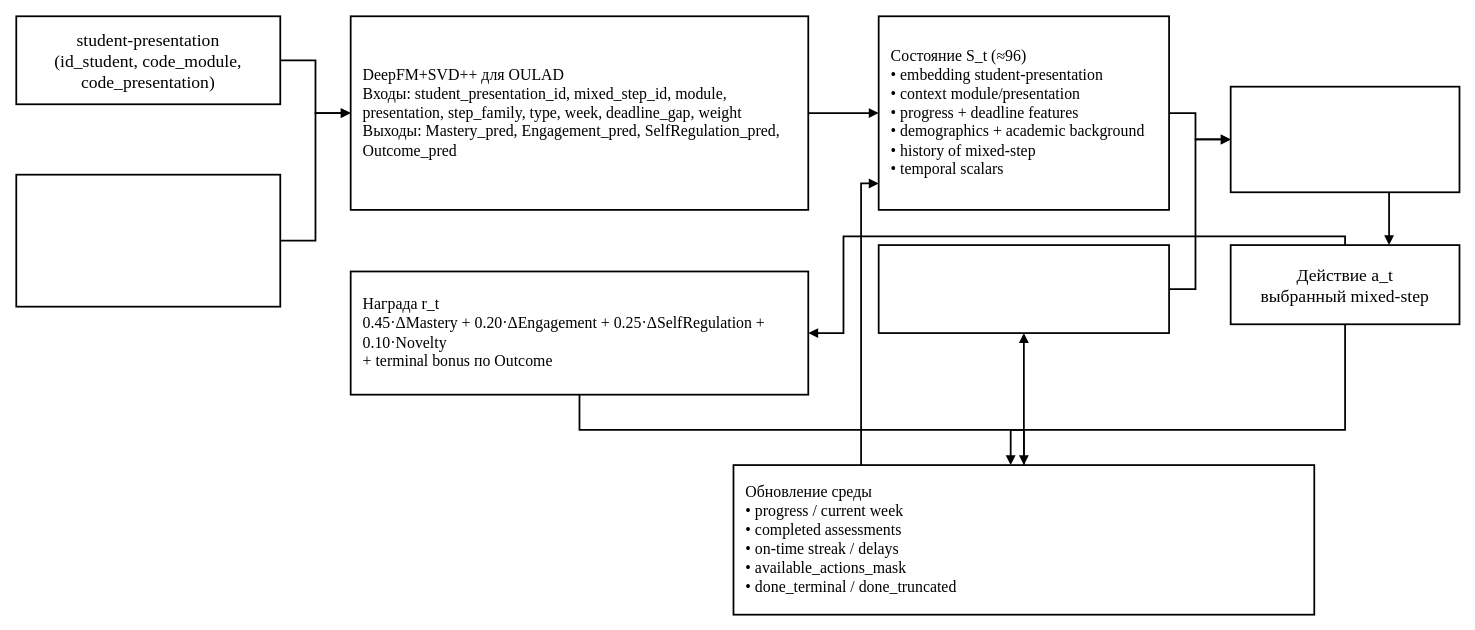
The diagram is 1475 pixels wide and 630 high, and some of its shapes have lost their labels. The shapes that lost their labels are listed below. From the top down, each one's box as (x1, y1, x2, y2) in pixels, then its label:
(1229, 85, 1460, 193): Dueling DQN Q(s_t, a) с учетом mask
(15, 173, 281, 307): Каталог mixed-step • assessment-step • VLE-step • week/phase-aware
(877, 244, 1170, 334): Action mask A(s_t) ⊂ A доступны только допустимые mixed-step
